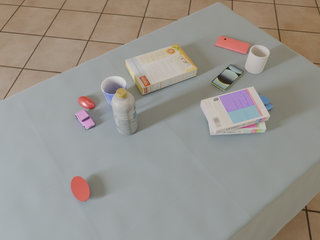book: (201, 87, 270, 134)
bottle: (111, 88, 137, 135)
box: (126, 44, 197, 95)
cup: (101, 76, 126, 105), (245, 45, 269, 74)
mouse: (71, 176, 90, 202), (78, 96, 95, 109)
phone: (212, 65, 244, 91), (215, 36, 250, 54)
toy_car: (75, 110, 95, 130), (257, 93, 273, 111)
